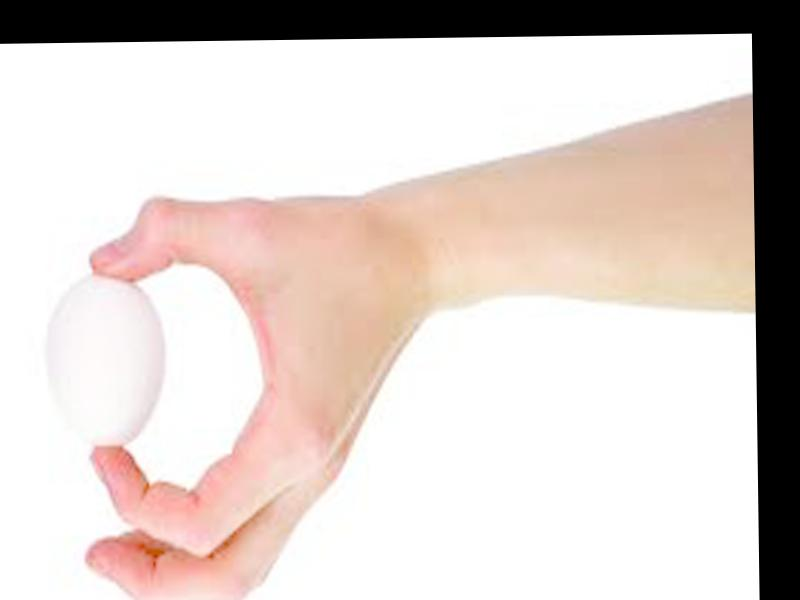Eggs: (44, 274, 166, 449)
